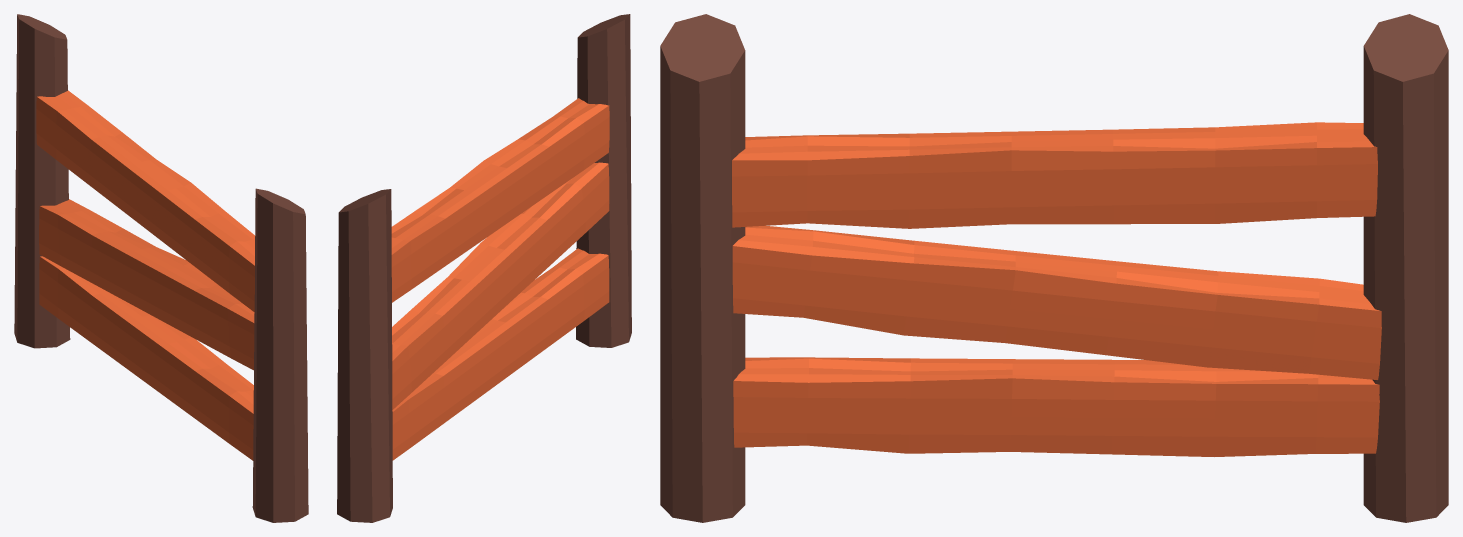
File: Hekjev2.fbx
The picture shows the model from 3 angles, left to right: view 1: azimuth 30°, elevation 25°; view 2: azimuth 150°, elevation 25°; view 3: azimuth 270°, elevation 25°; orthographic projection. The views are drawn at different scales.
Parts seen in each view (by area): view 1: Cube.003, Circle, Circle.001; view 2: Cube.003, Circle.001, Circle; view 3: Cube.003, Circle, Circle.001.
Part boxes in pixels (bbox=[...]): Cube.003: bbox=[36, 90, 254, 460]; Circle: bbox=[252, 188, 308, 522]; Circle.001: bbox=[14, 14, 70, 348]; Cube.003: bbox=[391, 98, 609, 460]; Circle.001: bbox=[337, 189, 392, 522]; Circle: bbox=[576, 14, 631, 347]; Cube.003: bbox=[732, 122, 1381, 456]; Circle: bbox=[660, 14, 745, 522]; Circle.001: bbox=[1363, 14, 1448, 522].
Size of the model in its own units: 310 by 1908 by 2870.
1 material, 1 textured.
